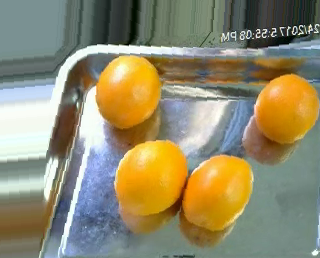Orange: (113, 139, 188, 214), (182, 153, 254, 230), (96, 53, 162, 129), (253, 74, 318, 144)
